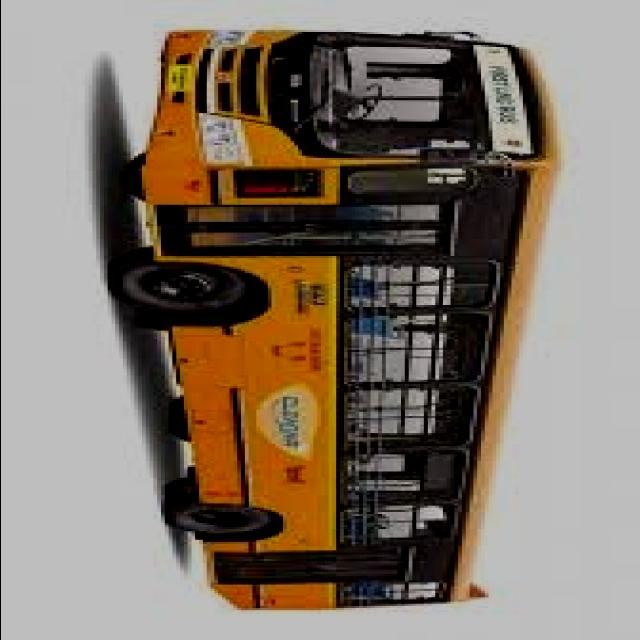bus: (99, 21, 577, 639)
